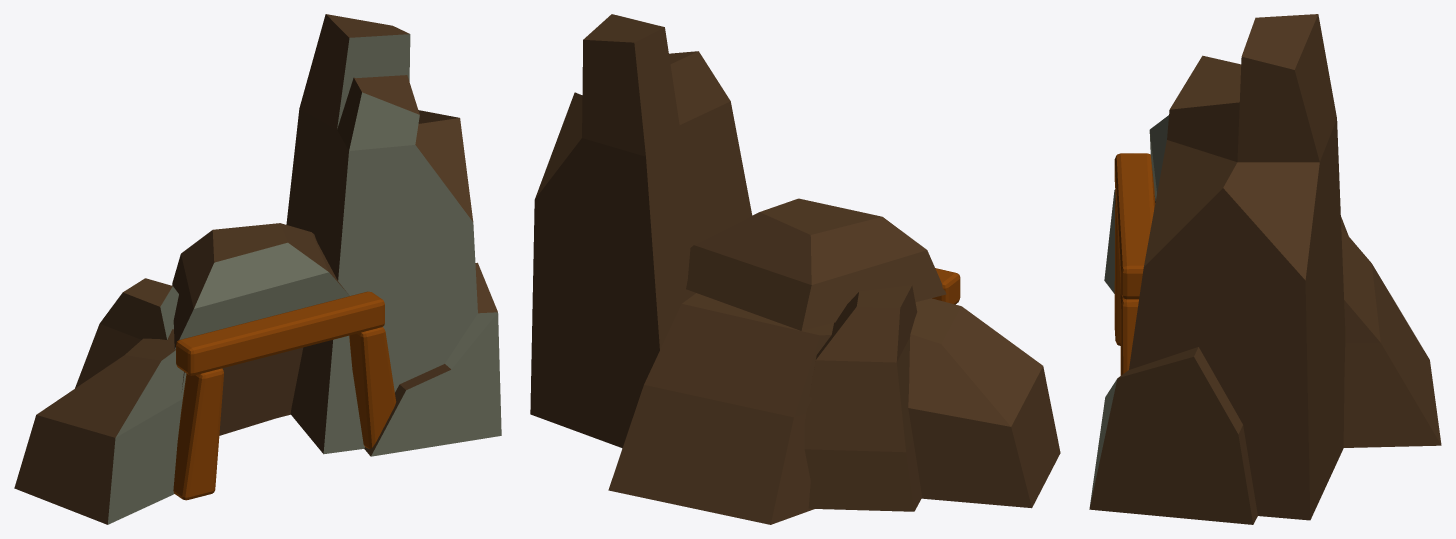
File: rocks_entrance.fbx
The picture shows the model from 3 angles, left to right: view 1: azimuth 30°, elevation 25°; view 2: azimuth 150°, elevation 25°; view 3: azimuth 270°, elevation 25°; orthographic projection. The views are drawn at different scales.
Parts seen in each view (by area): view 1: rocks; view 2: rocks; view 3: rocks.
Boxes of the visible parts, box(x1,y1,x2,y2) form: rocks: box(14, 14, 501, 524); rocks: box(530, 14, 1060, 524); rocks: box(1089, 14, 1441, 524).
Size of the model in its own units: 212 by 168 by 119.
